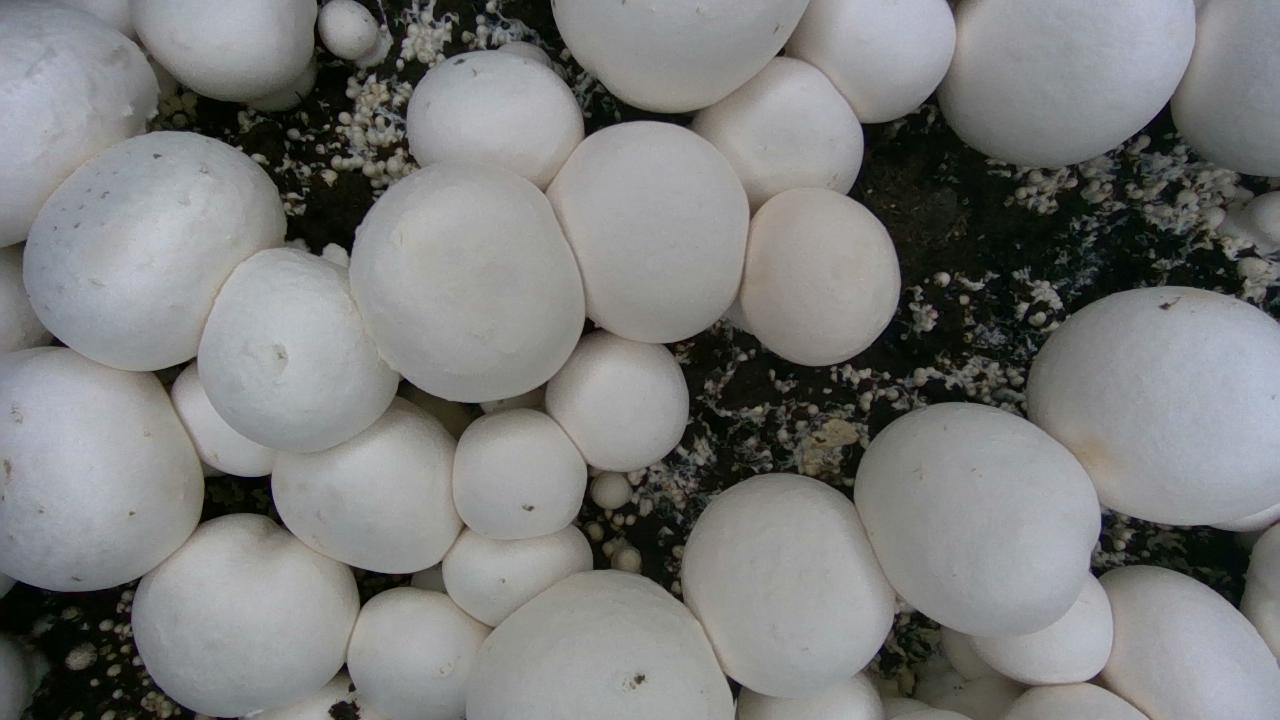WB: (24, 132, 286, 370), (1028, 286, 1279, 529), (348, 161, 586, 402), (854, 403, 1099, 636), (0, 348, 203, 590), (681, 473, 894, 697), (131, 513, 359, 716), (546, 121, 749, 342), (938, 0, 1194, 167), (197, 248, 399, 452), (466, 570, 733, 719), (271, 397, 461, 572), (552, 0, 807, 112), (739, 188, 899, 365), (1100, 566, 1279, 719), (691, 57, 863, 212), (407, 50, 583, 189), (786, 0, 955, 122), (545, 330, 688, 471), (1171, 0, 1279, 176), (347, 587, 490, 719), (131, 0, 317, 101), (452, 409, 587, 539), (971, 573, 1113, 684), (442, 525, 592, 625), (171, 363, 275, 476), (736, 674, 884, 719), (1003, 683, 1147, 719), (318, 0, 378, 59)
